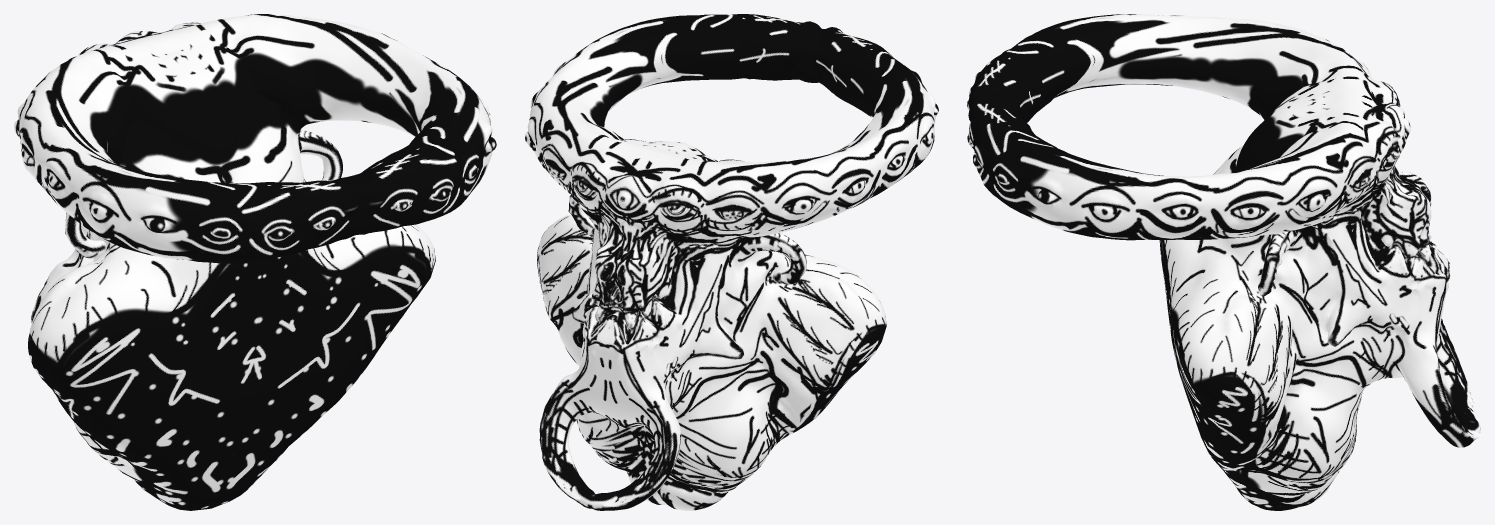
The model's file is gothic_ring.glb.
The picture shows the model from 3 angles, left to right: view 1: azimuth 30°, elevation 25°; view 2: azimuth 150°, elevation 25°; view 3: azimuth 270°, elevation 25°; orthographic projection. The views are drawn at different scales.
Visible parts, largest first — view 1: Object_2; view 2: Object_2; view 3: Object_2.
Part boxes in pixels (left/top/right/bottom): Object_2: left=14, top=14, right=496, bottom=510; Object_2: left=525, top=14, right=938, bottom=510; Object_2: left=967, top=14, right=1480, bottom=510.
Bounding box in the file's own units: 5.27 × 5.57 × 6.3.
Materials: 1 (1 with a texture image).
